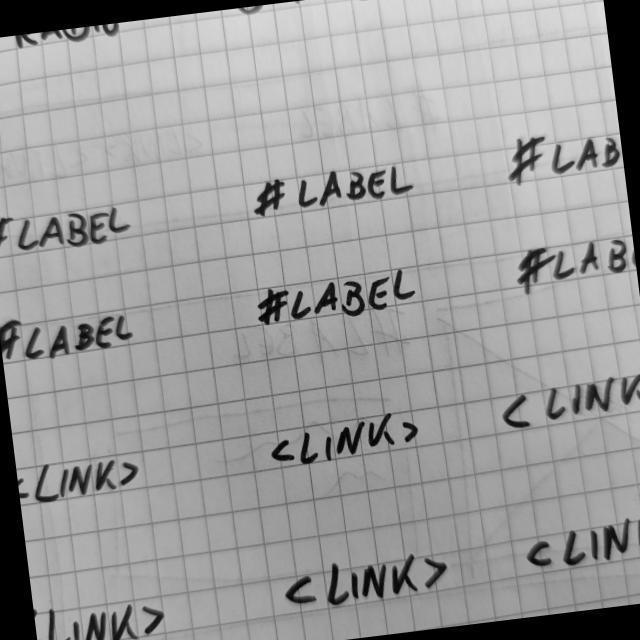label: (251, 260, 425, 333), (247, 156, 418, 225), (1, 194, 139, 267), (1, 301, 144, 369), (500, 119, 626, 193), (509, 229, 639, 300)
link: (278, 545, 454, 619), (266, 403, 426, 476), (493, 367, 640, 434), (16, 448, 148, 512), (520, 512, 640, 578), (33, 587, 171, 640)
